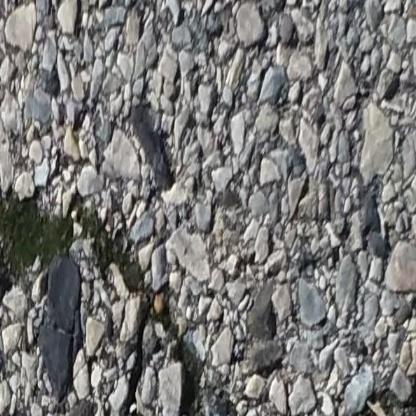Cracks: (0, 175, 257, 416), (347, 395, 416, 416)
